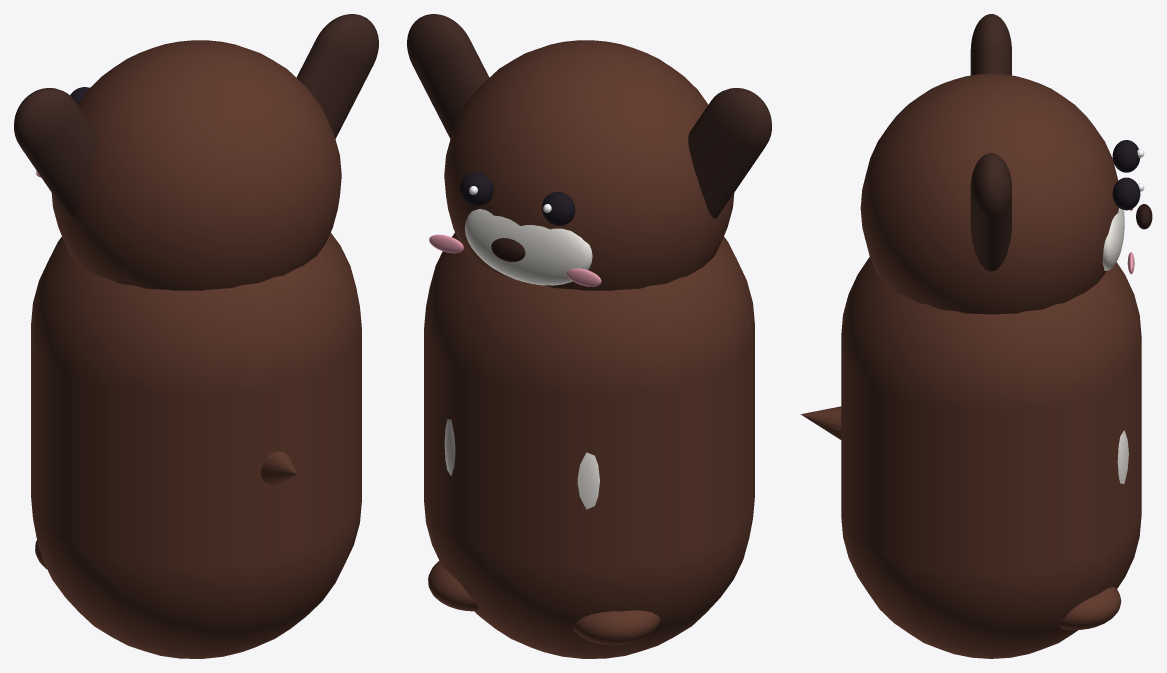
File: may.glb
3 views of the same model, side by side, from view 1: azimuth 30°, elevation 25°; view 2: azimuth 150°, elevation 25°; view 3: azimuth 270°, elevation 25° (orthographic). The views are drawn at different scales.
Bounding box in the file's own units: 0.6223 × 0.9722 × 0.5568.
